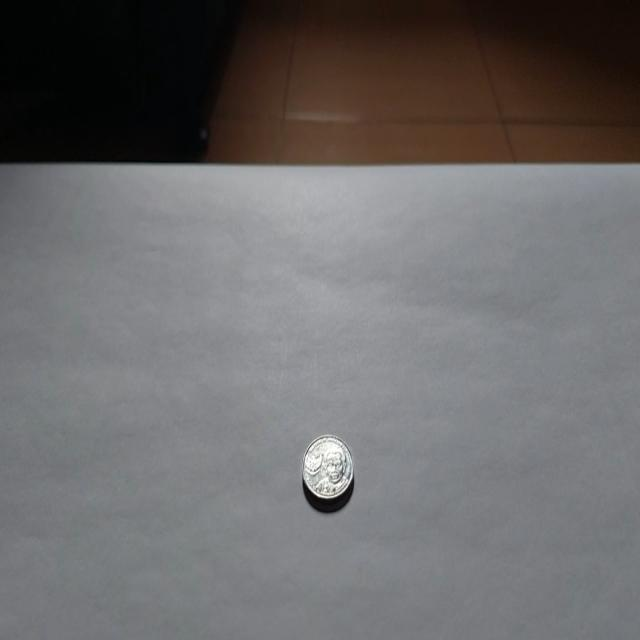seratus rupiah: (301, 432, 354, 511)
